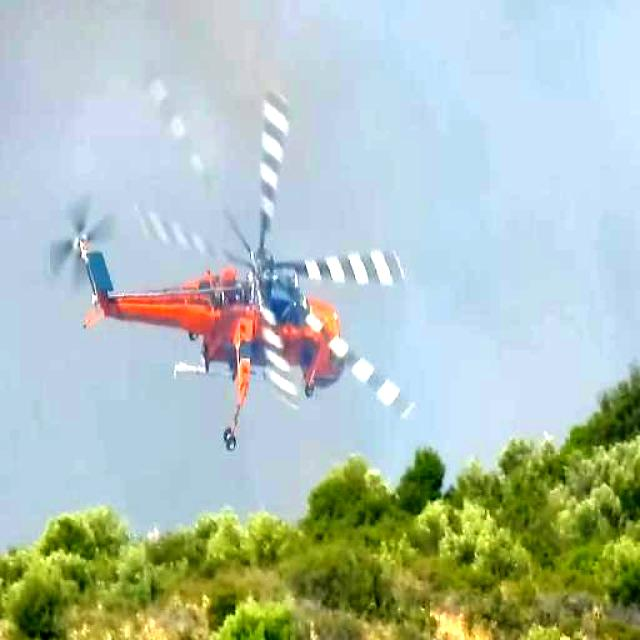drone: (60, 105, 405, 454)
